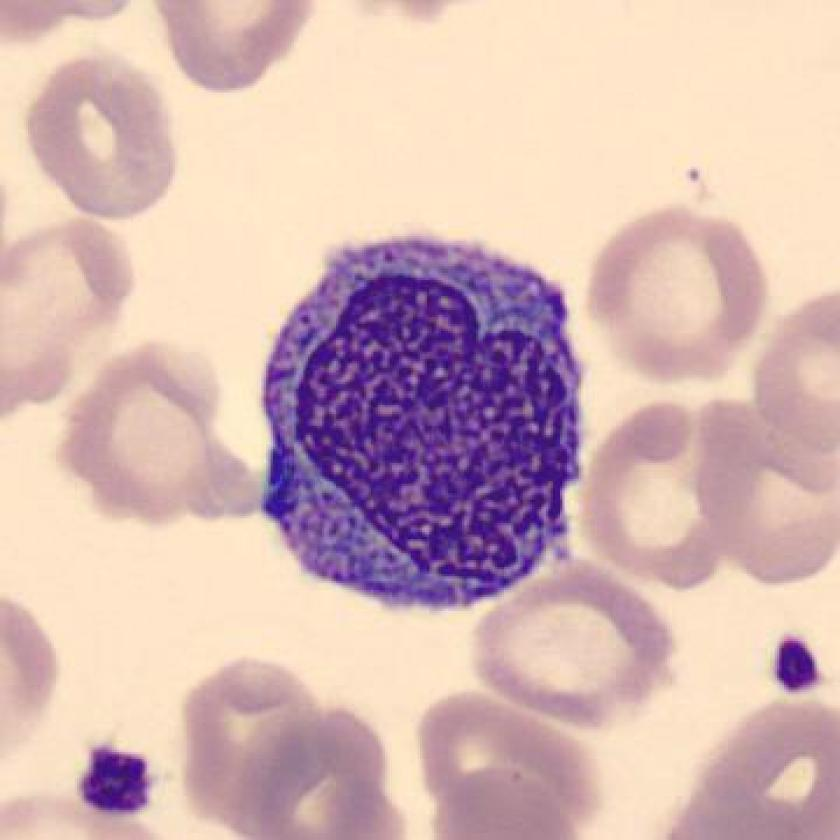monocyte: (239, 205, 612, 644)
